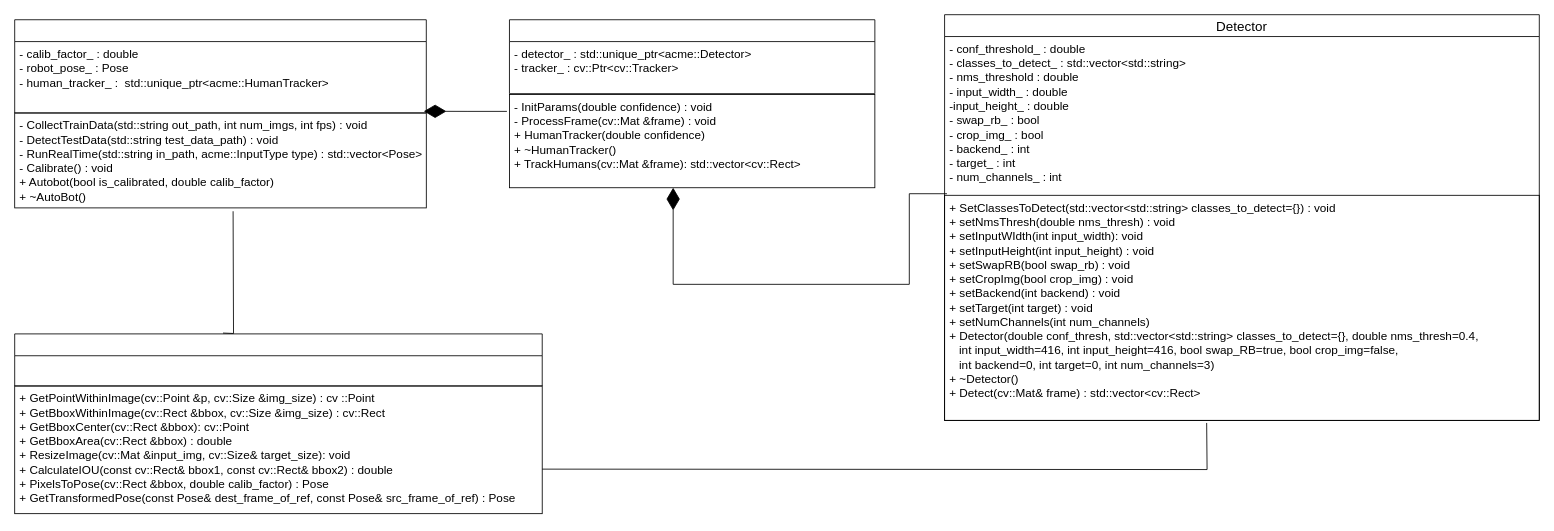
Image size: 1554x531. Some labels were removed from this diagram. Here are the shapes that lost their labels. From the top down, the box of each, then its label:
(14, 19, 426, 113): AutoBot
(509, 19, 875, 94): HumanTracker
(14, 333, 542, 386): Utils
